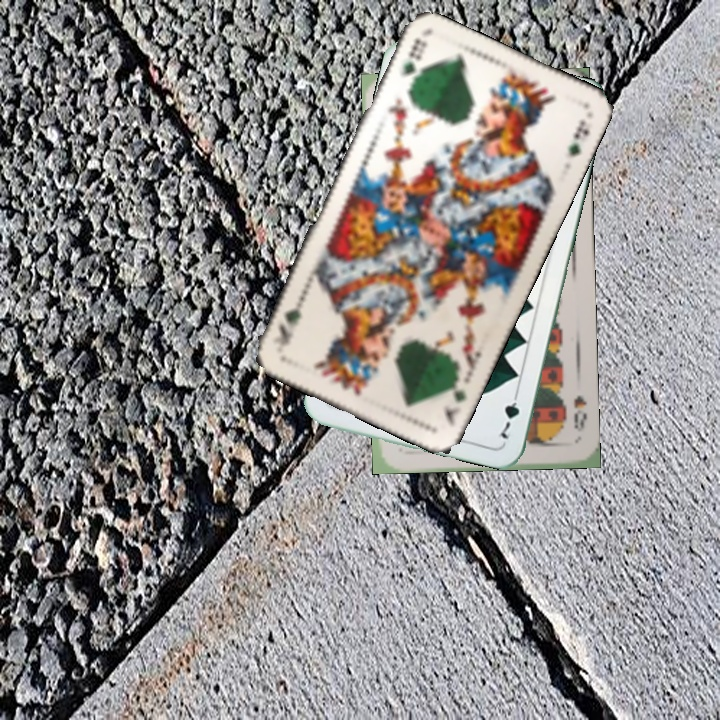G7: (495, 385, 522, 442)
GK: (439, 370, 470, 428), (398, 34, 430, 80)
S8: (569, 391, 590, 434)
